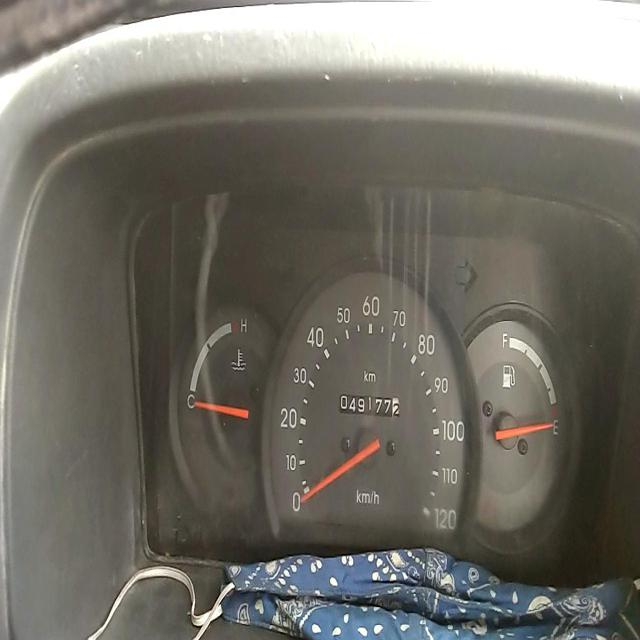odometer: (339, 395, 400, 418)
